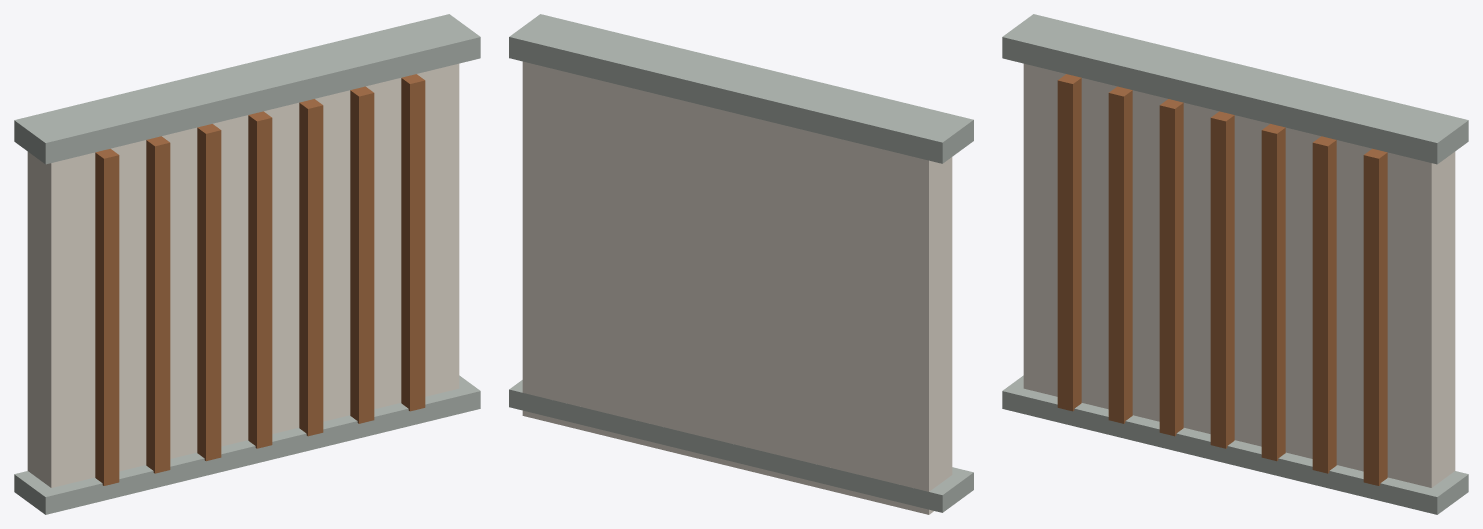
File: component-wall-slat-panel.meshopt.glb
3 views of the same model, side by side, from view 1: azimuth 30°, elevation 25°; view 2: azimuth 150°, elevation 25°; view 3: azimuth 330°, elevation 25° (orthographic).
Visible parts, largest first — view 1: base_wall, trim_top, trim_bottom, wood_slat_4, wood_slat_7, wood_slat_3, wood_slat_2, wood_slat_5, wood_slat_6, wood_slat_1; view 2: base_wall, trim_top, trim_bottom; view 3: base_wall, trim_top, trim_bottom, wood_slat_1, wood_slat_4, wood_slat_5, wood_slat_6, wood_slat_3, wood_slat_2, wood_slat_7.
Part boxes in pixels (<box>): base_wall: <box>27,63,459,487</box>; trim_top: <box>14,14,480,164</box>; trim_bottom: <box>14,375,480,514</box>; wood_slat_4: <box>248,111,272,448</box>; wood_slat_7: <box>401,74,425,411</box>; wood_slat_3: <box>197,124,221,461</box>; wood_slat_2: <box>146,136,170,473</box>; wood_slat_5: <box>299,99,323,436</box>; wood_slat_6: <box>350,86,374,423</box>; wood_slat_1: <box>95,148,119,485</box>; base_wall: <box>522,61,952,514</box>; trim_top: <box>509,14,973,163</box>; trim_bottom: <box>509,380,973,512</box>; base_wall: <box>1023,63,1455,487</box>; trim_top: <box>1002,14,1468,164</box>; trim_bottom: <box>1002,375,1468,514</box>; wood_slat_1: <box>1057,74,1081,411</box>; wood_slat_4: <box>1210,111,1234,448</box>; wood_slat_5: <box>1261,124,1285,461</box>; wood_slat_6: <box>1312,136,1336,473</box>; wood_slat_3: <box>1159,99,1183,436</box>; wood_slat_2: <box>1108,86,1132,423</box>; wood_slat_7: <box>1363,148,1387,485</box>.
Bounding box in the file's own units: 1.28 × 1.06 × 0.1675.
